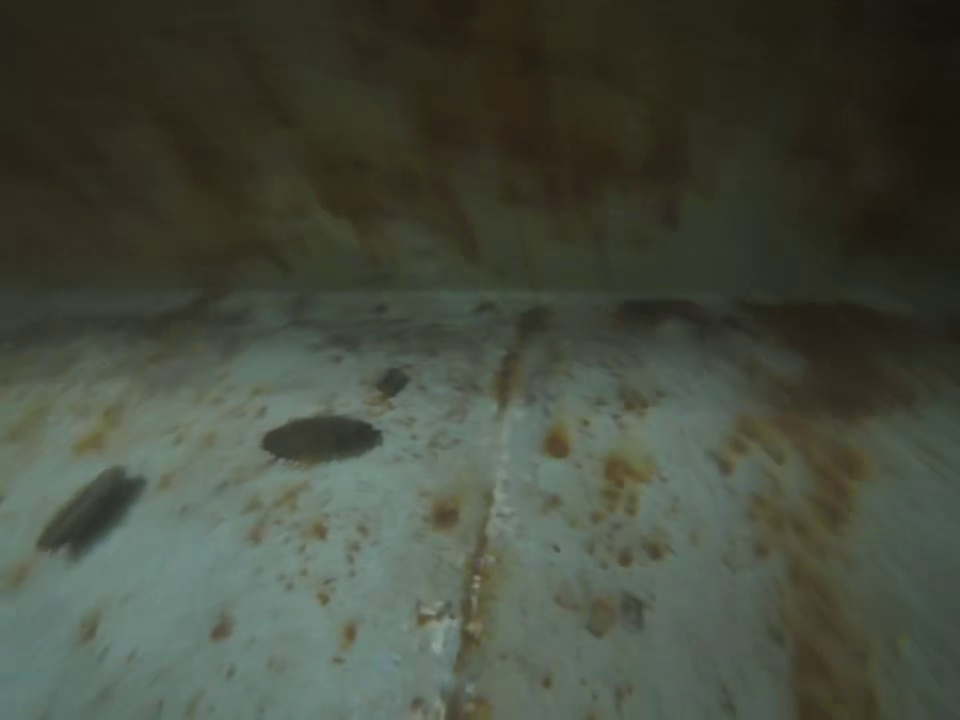seacucumber: (31, 464, 130, 560), (259, 417, 387, 463)
